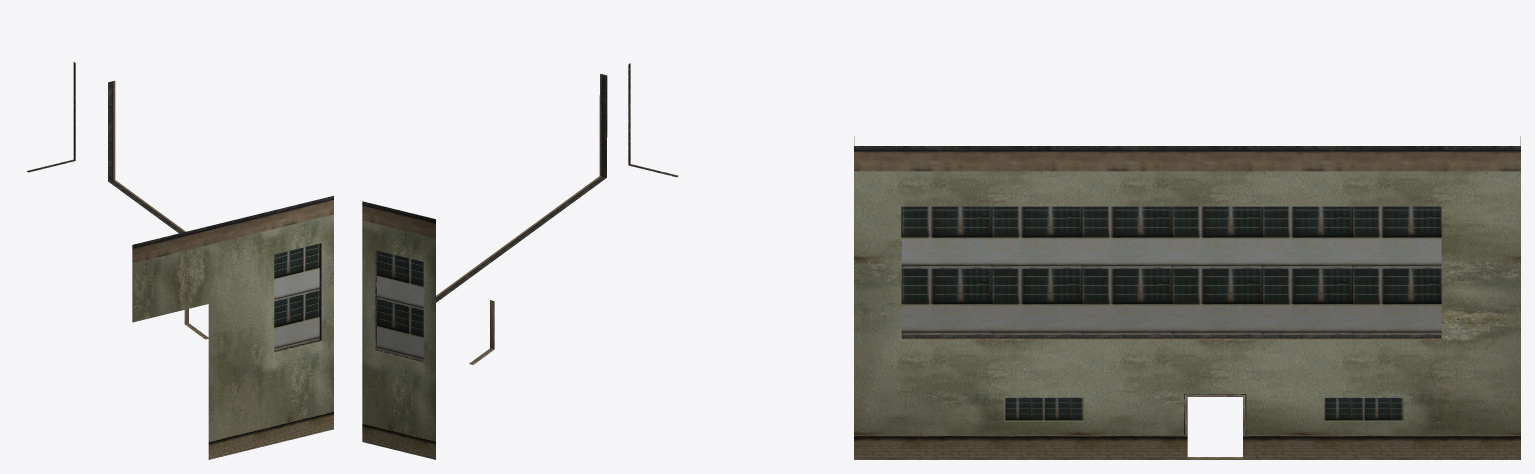
File: M10_Z2_NewBuild02.glb
3 views of the same model, side by side, from view 1: azimuth 30°, elevation 25°; view 2: azimuth 150°, elevation 25°; view 3: azimuth 270°, elevation 25° (orthographic). The views are drawn at different scales.
Visible parts, largest first — view 1: M10_Z2_NEWBUILD02; view 2: M10_Z2_NEWBUILD02; view 3: M10_Z2_NEWBUILD02.
Boxes of the visible parts, x1,y1,x2,y2 form: M10_Z2_NEWBUILD02: (27,62,333,459); M10_Z2_NEWBUILD02: (362,63,678,459); M10_Z2_NEWBUILD02: (854,136,1520,459).
Size of the model in its own units: 11.26 by 12.46 by 24.
Materials: 5 (5 with a texture image).
